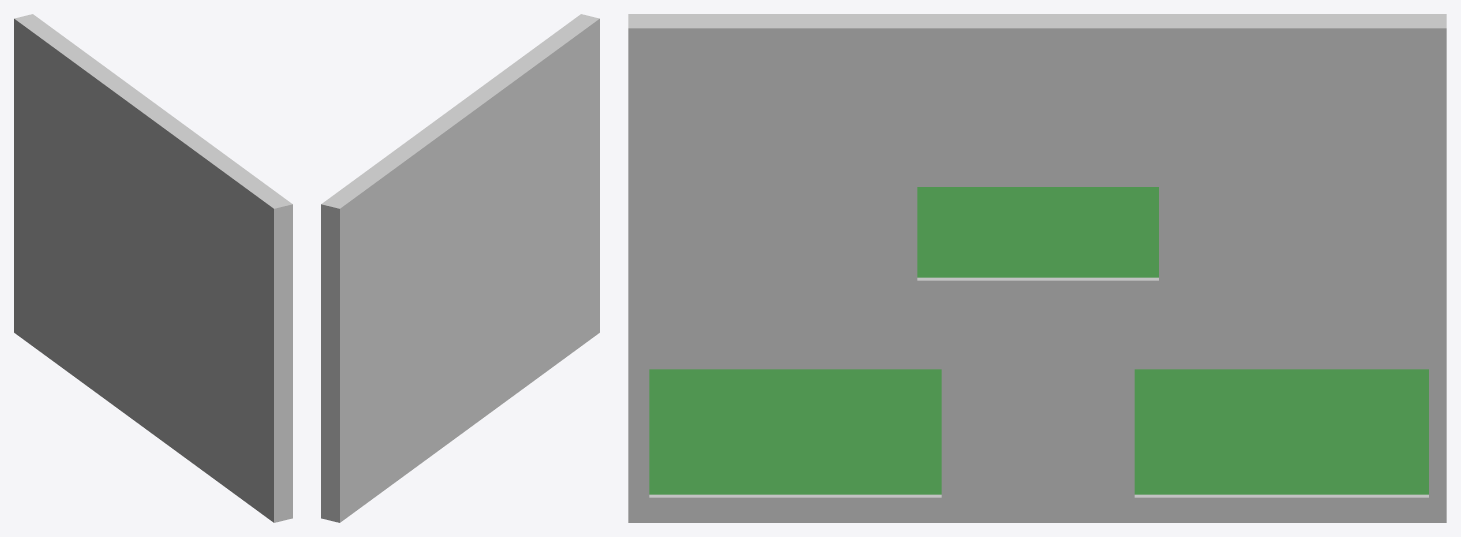
File: ScoreBoard_Mesh.fbx
3 views of the same model, side by side, from view 1: azimuth 30°, elevation 25°; view 2: azimuth 150°, elevation 25°; view 3: azimuth 270°, elevation 25° (orthographic). The views are drawn at different scales.
Parts seen in each view (by area): view 1: Cube; view 2: Cube; view 3: Cube.
Boxes of the visible parts, <box> form: Cube: <box>14,14,292,522</box>; Cube: <box>321,14,599,522</box>; Cube: <box>628,14,1446,522</box>.
Size of the model in its own units: 0.5 by 8 by 12.
